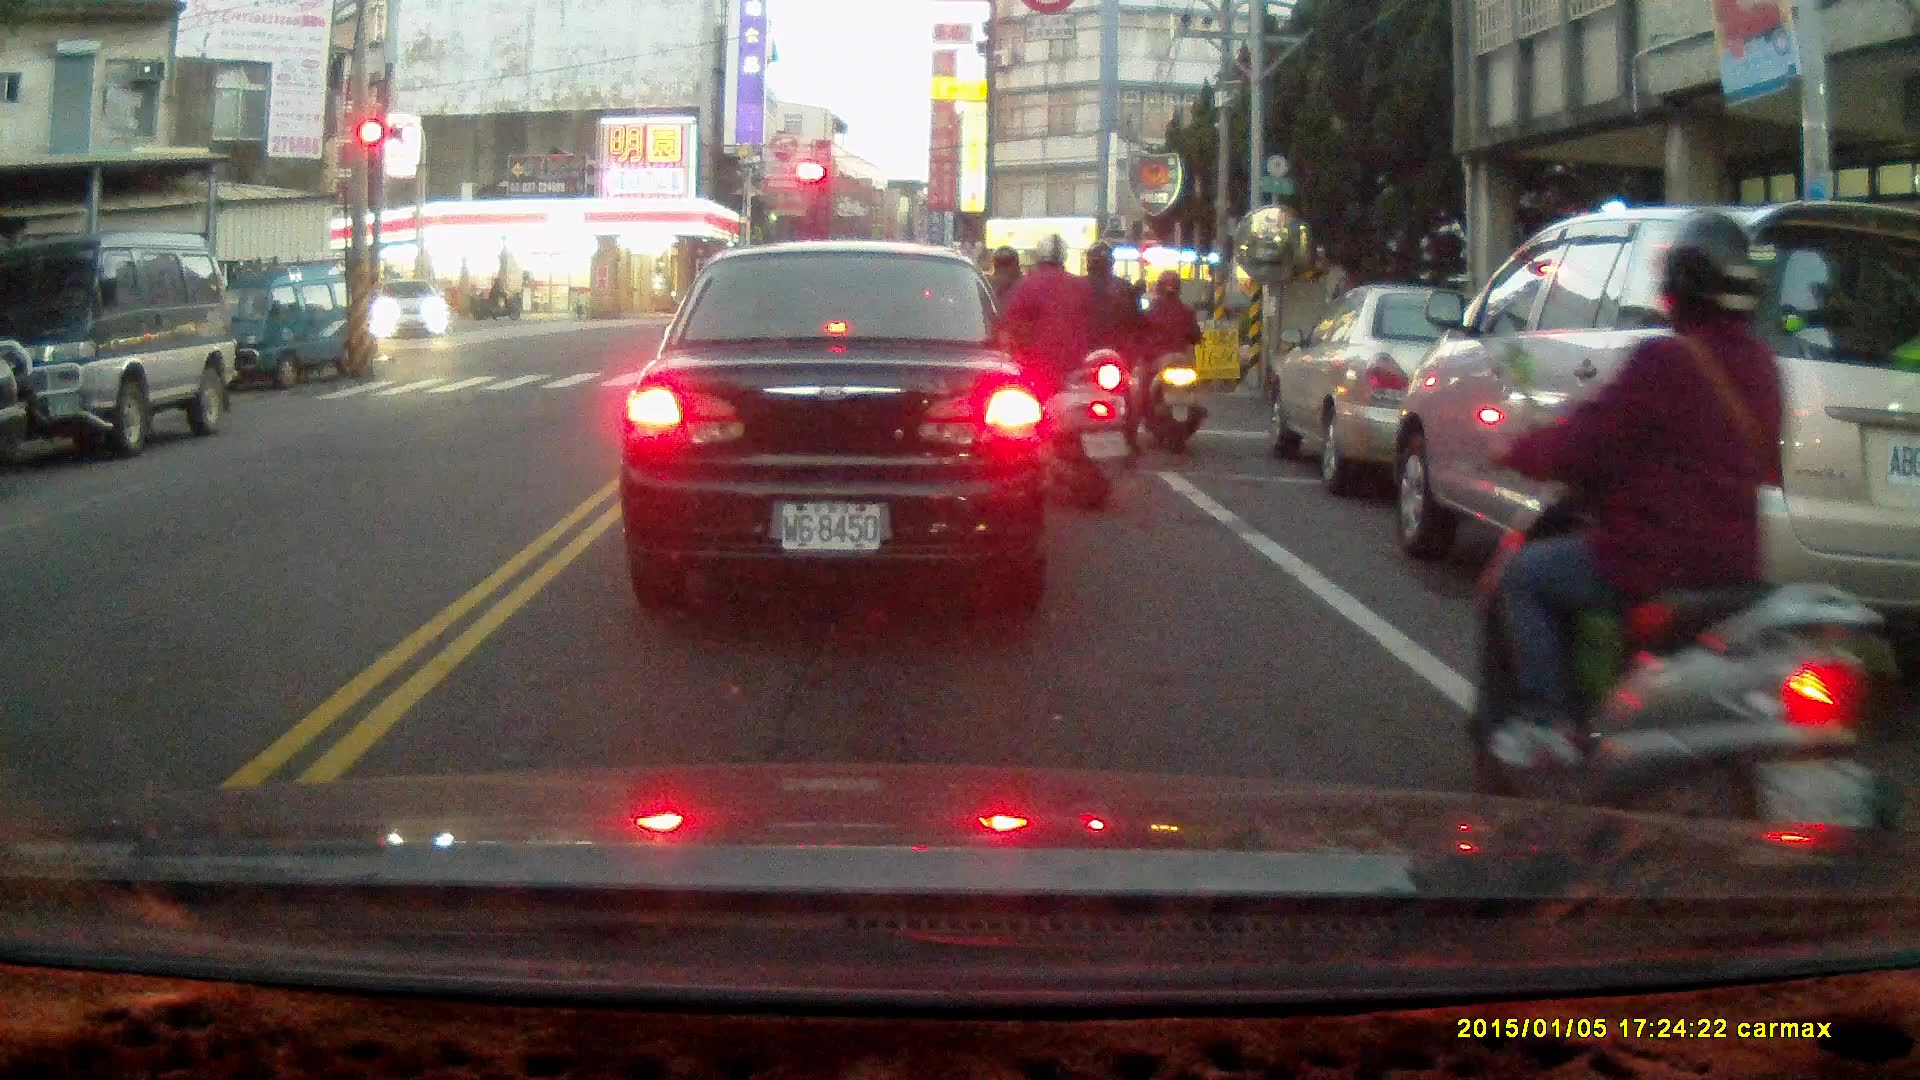rider: (1470, 210, 1878, 898), (985, 233, 1131, 514), (1048, 242, 1141, 468), (960, 239, 1057, 434), (1134, 269, 1204, 450), (473, 279, 519, 322)
vehicle: (1379, 197, 1920, 689), (617, 243, 1061, 606), (1266, 286, 1567, 499), (1, 234, 239, 458), (194, 255, 381, 393), (372, 277, 451, 343)
